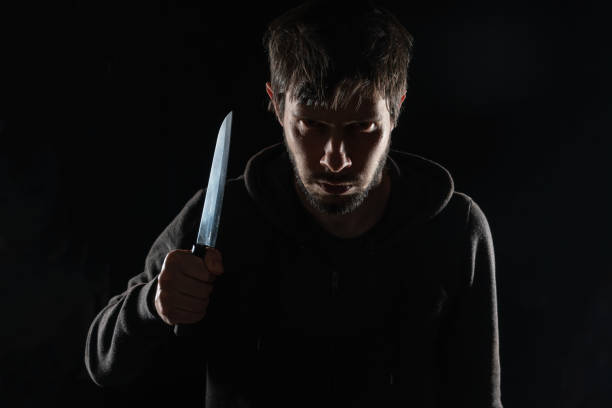knife: (170, 110, 234, 340)
